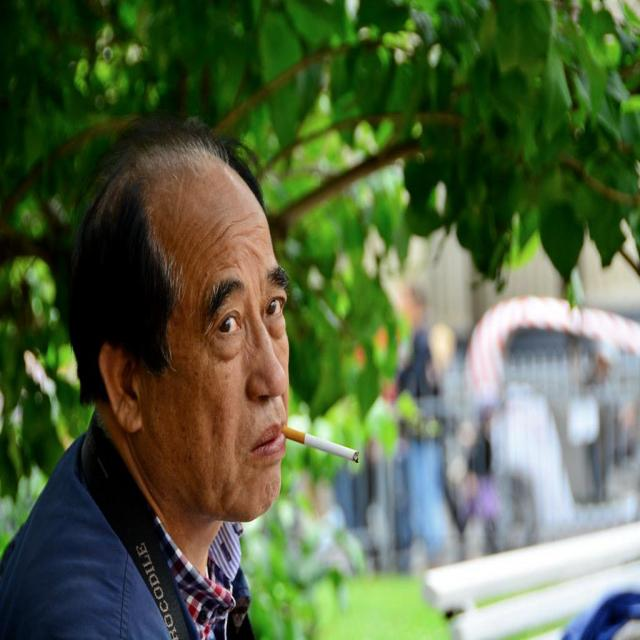smoke: (277, 412, 362, 472)
